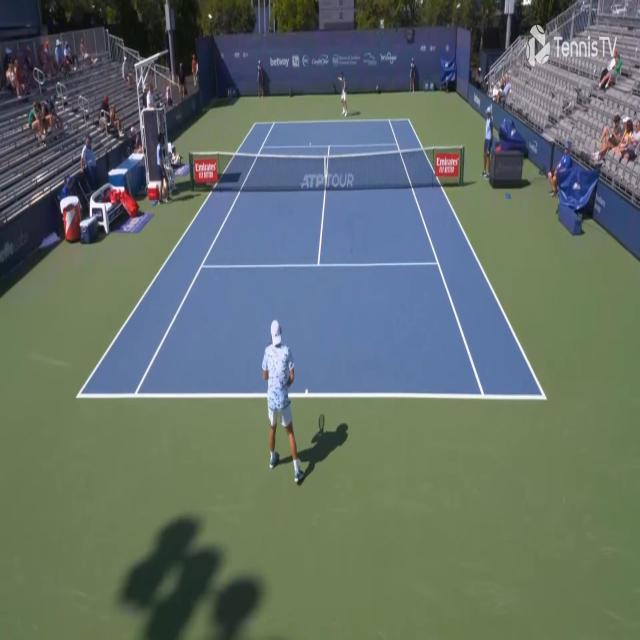tennis-player: (262, 317, 304, 488), (331, 69, 349, 118)
